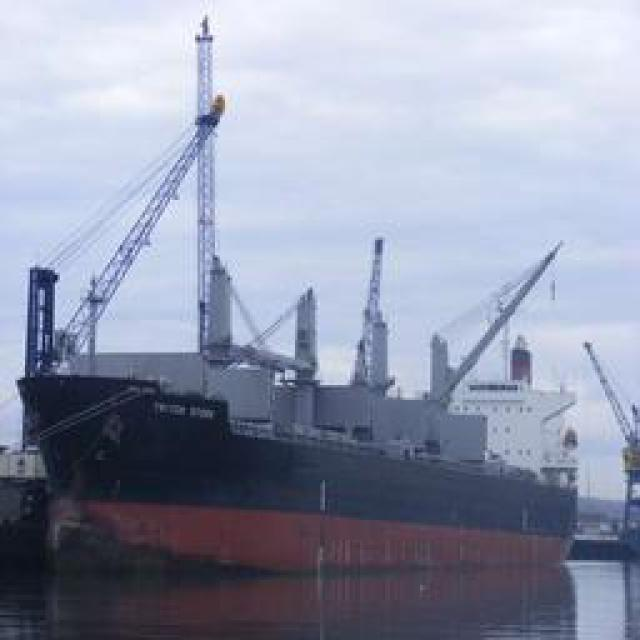Ship: (25, 187, 590, 580)
